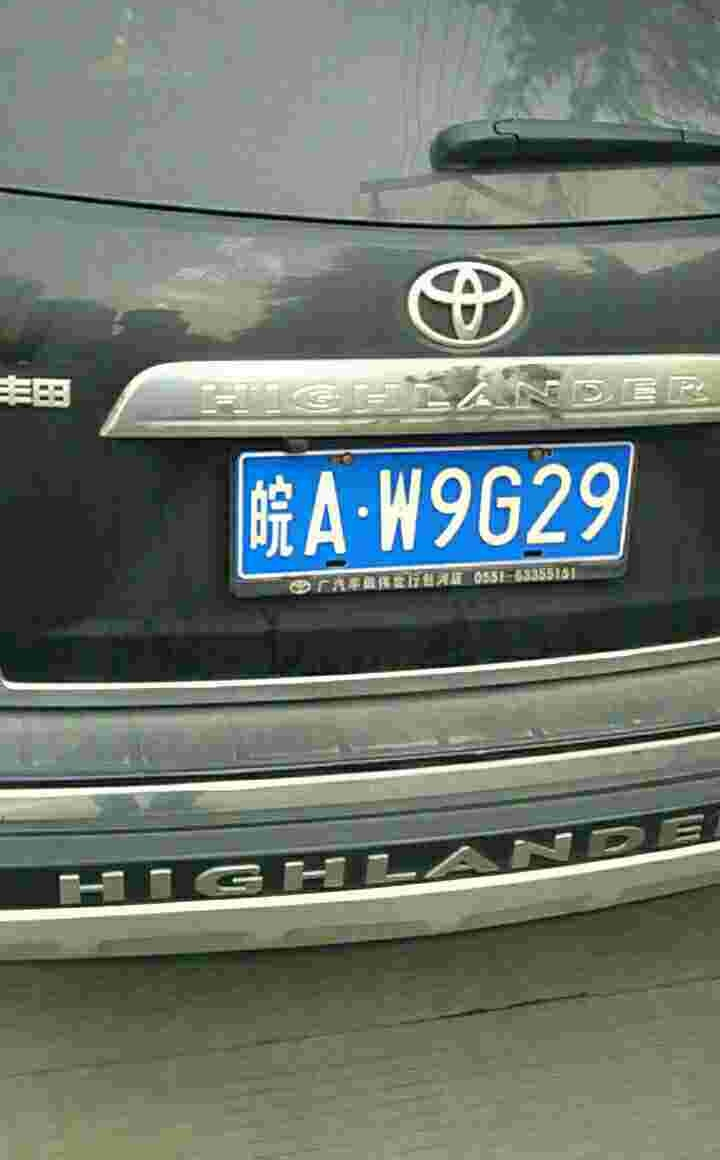car_blue: (228, 441, 643, 591)
